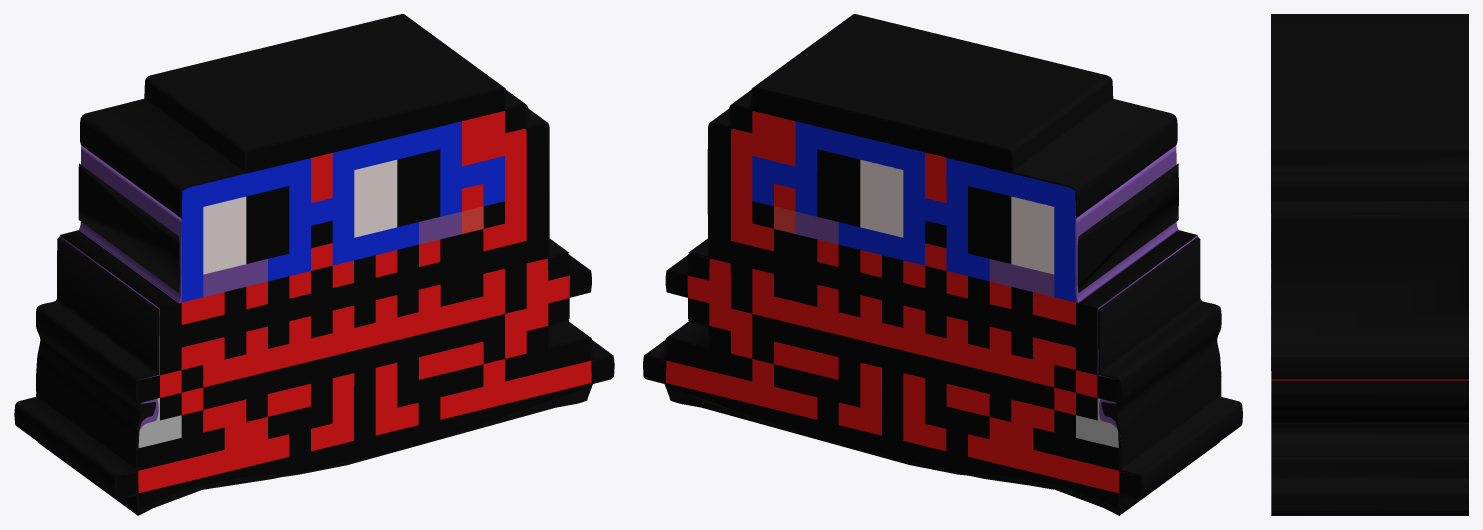
File: Toadz_2742.glb
3 renders of one model, left to right at view 1: azimuth 30°, elevation 25°; view 2: azimuth 150°, elevation 25°; view 3: azimuth 270°, elevation 25°, orthographic.
Parts seen in each view (by area): view 1: Curve; view 2: Curve; view 3: Curve.
Part boxes in pixels (left/top/right/bottom): Curve: left=14, top=14, right=614, bottom=515; Curve: left=643, top=14, right=1242, bottom=515; Curve: left=1271, top=14, right=1468, bottom=515.
Size of the model in its own units: 2.89 by 1.88 by 1.
